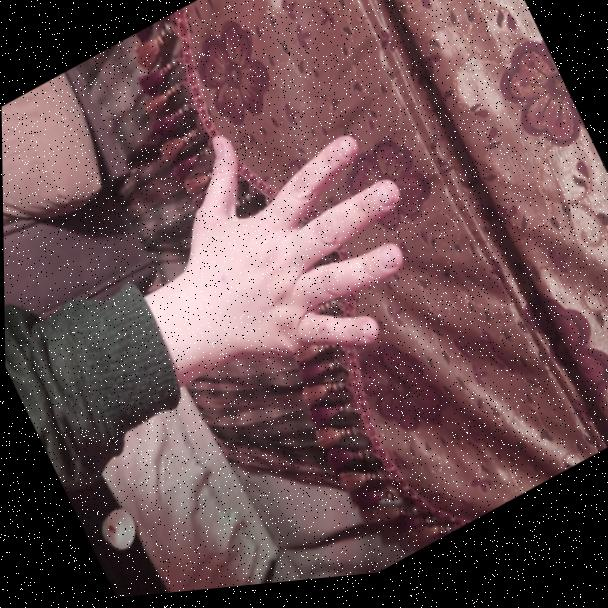five: (129, 64, 454, 427)
